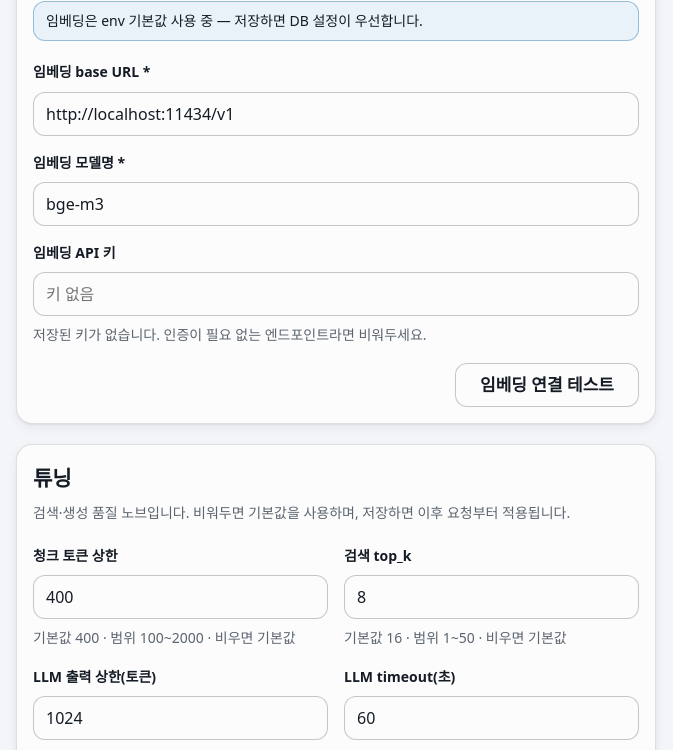
Test: AiConfigPanel — 임베딩 섹션 (H15-3) › 차원이 1024가 아니면 실패로 표시하고 필요한 차원을 안내한다
The image size is (673, 750).
(page scrolled)
Click the button "임베딩 연결 테스트": (547, 385) [455,363,639,407]
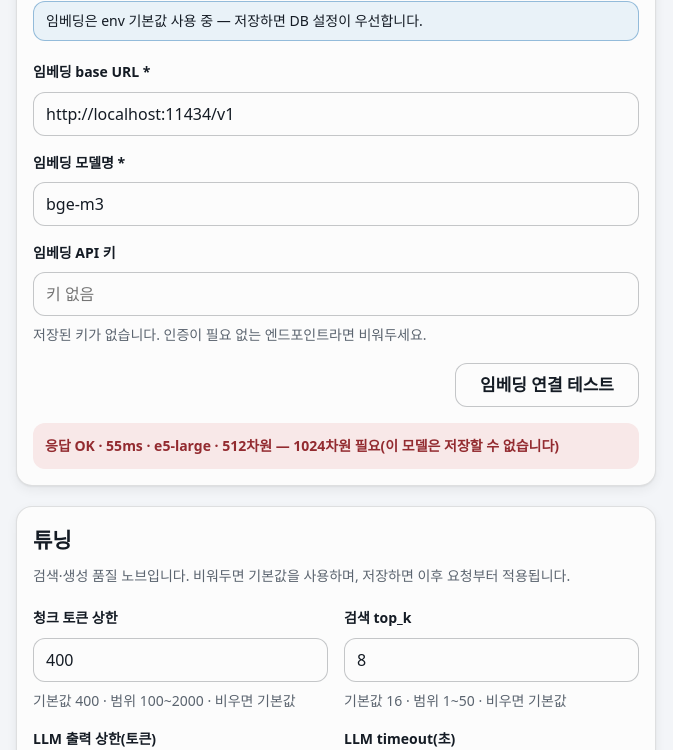
Expected: the text "응답 OK · 55ms · e5-large · 512차원 — 1024차원 필요(이 모델은 저장할 수 없습니다)" is shown, [33,423,639,469]
